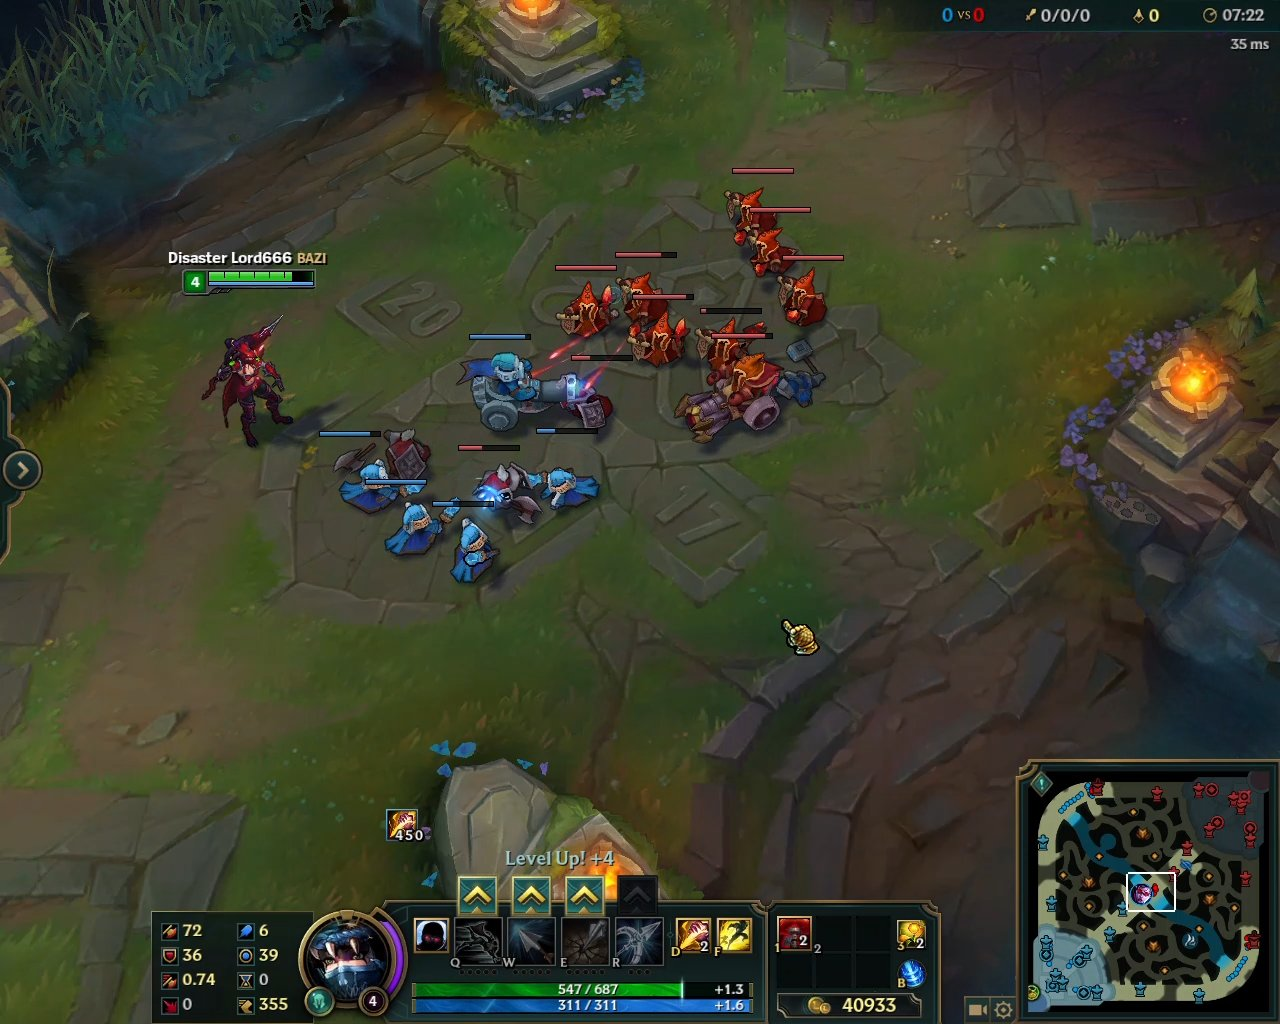EnemyMinion: (674, 332, 787, 448), (455, 443, 544, 535), (722, 168, 798, 245), (560, 354, 634, 432), (616, 248, 678, 339), (627, 293, 696, 370), (776, 255, 844, 331), (553, 263, 618, 340), (744, 206, 811, 279)
Vayne: (197, 311, 297, 455)
